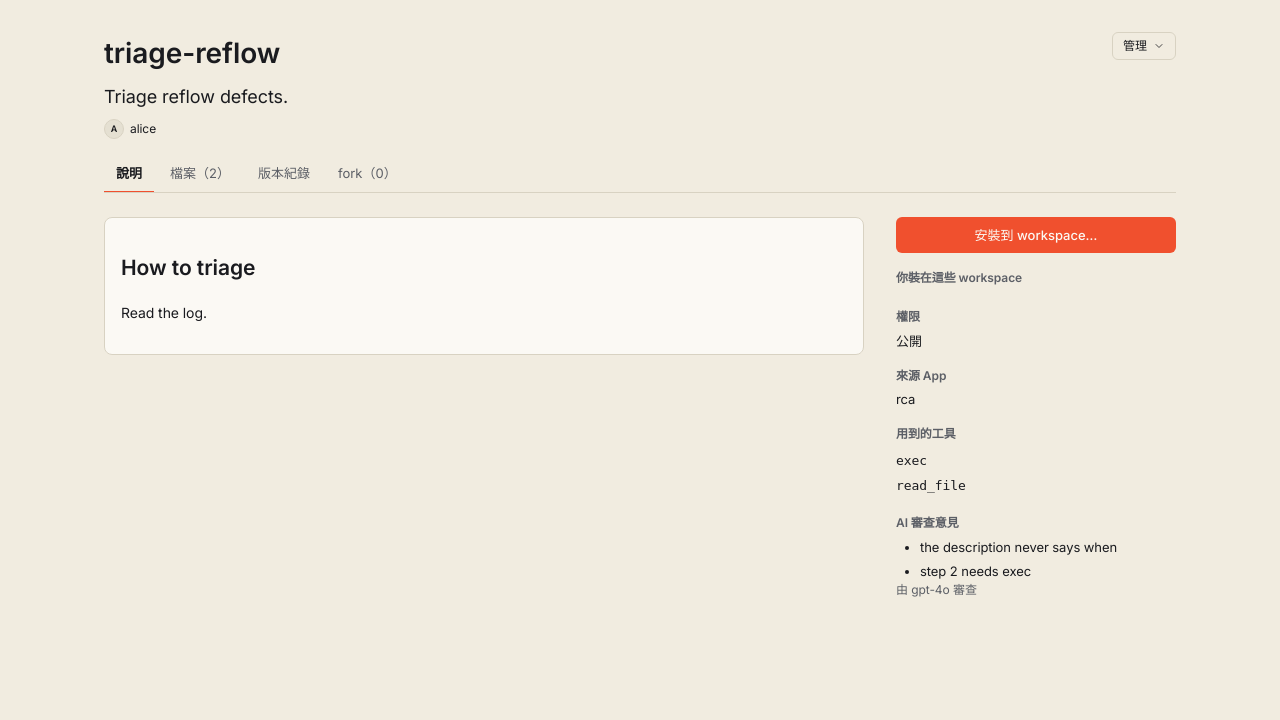
Scenario: SkillHubEntryPage › gives the owner the five actions behind 「管理 ▾」, the delete last (D5)
Click the button "管理". click: (1144,46)
box: [1112, 32, 1176, 60]
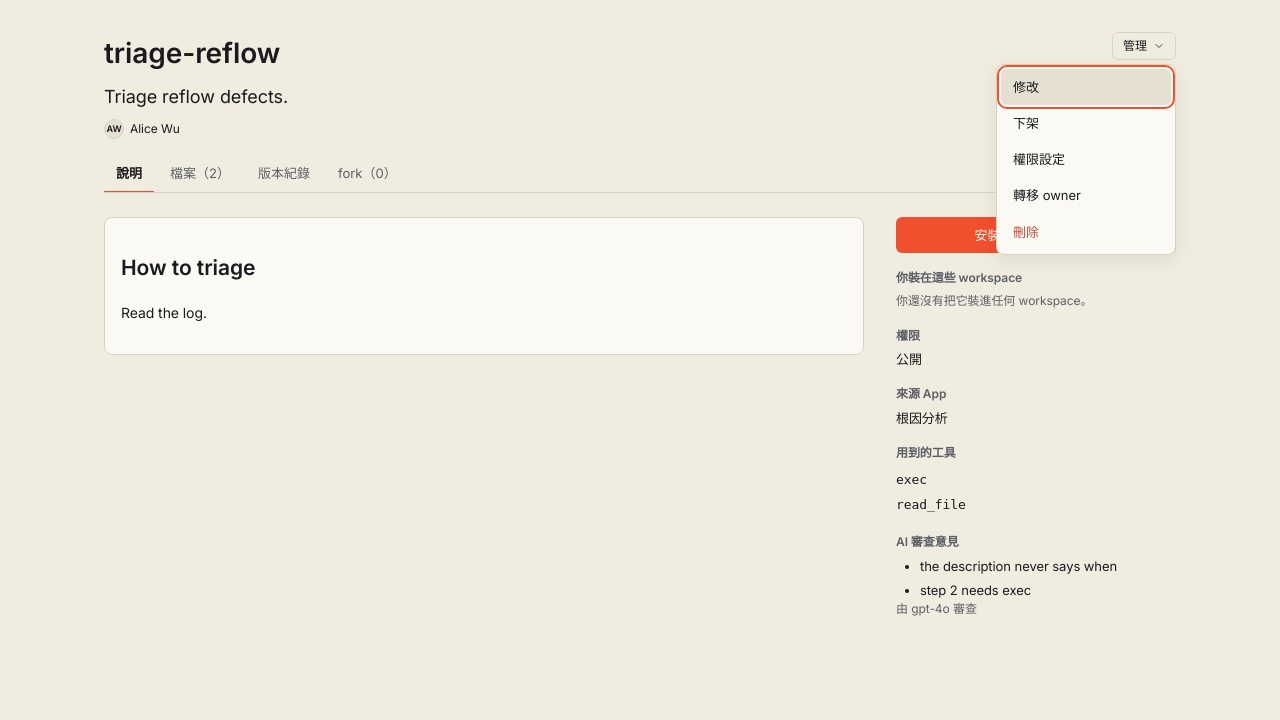
Expected: the text "公開" is shown, [896, 351, 922, 367]
Result: the menu items read "修改", "下架", "權限設定", "轉移 owner", "刪除", in this order at [1001, 69, 1171, 105]; [1001, 105, 1171, 141]; [1001, 141, 1171, 177]; [1001, 177, 1171, 214]; [1001, 214, 1171, 250]
